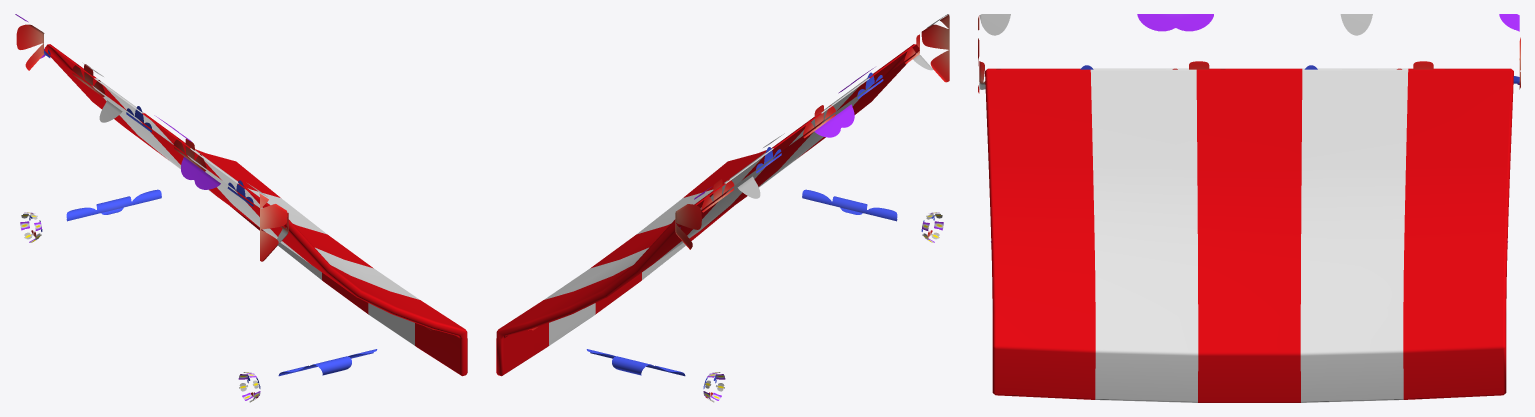
File: SM_Awning.fbx
3 renders of one model, left to right at view 1: azimuth 30°, elevation 25°; view 2: azimuth 150°, elevation 25°; view 3: azimuth 270°, elevation 25°, orthographic. The views are drawn at different scales.
Parts seen in each view (by area): view 1: SM_Awning; view 2: SM_Awning; view 3: SM_Awning.
Boxes of the visible parts, x1,y1,x2,y2 form: SM_Awning: [15, 14, 467, 402]; SM_Awning: [496, 14, 949, 402]; SM_Awning: [978, 14, 1520, 402].
Size of the model in its own units: 114 by 125 by 225.
